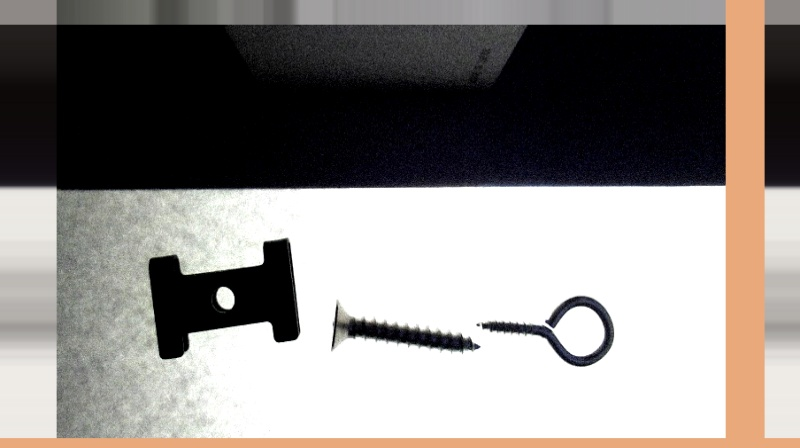O001: (473, 293, 614, 366)
O002: (146, 238, 300, 358)
S001: (329, 298, 477, 353)
